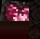lifeC: (0, 0, 29, 21)
